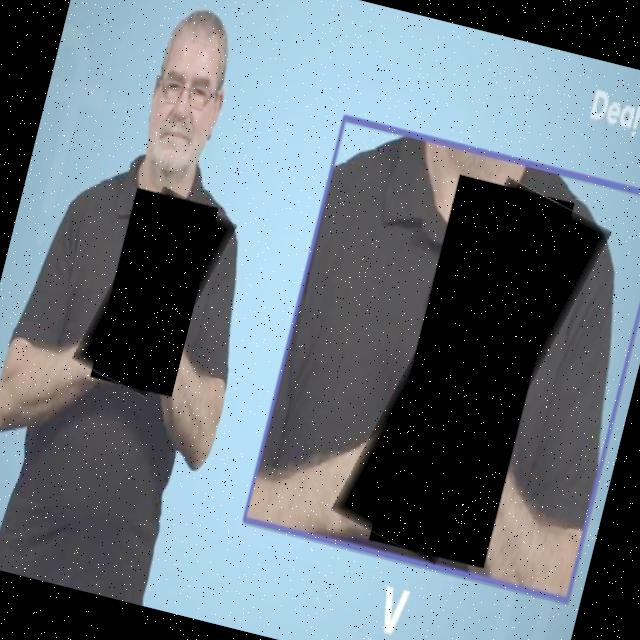V: (347, 165, 598, 579), (79, 182, 231, 405)
